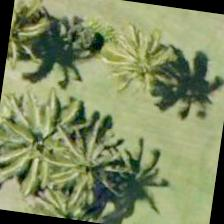Kelapa_Sawit: (94, 10, 196, 112), (40, 114, 142, 216), (0, 93, 84, 195), (27, 161, 124, 223)
